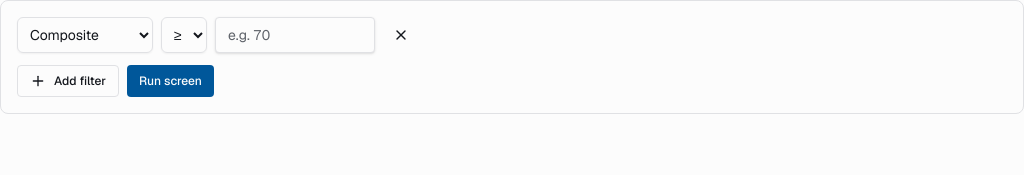
Test: FilterBuilder › adds and removes filter rows
This screenshot has width=1024, height=175.
Click the button "Add filter": [68, 81] box [17,65,119,97]
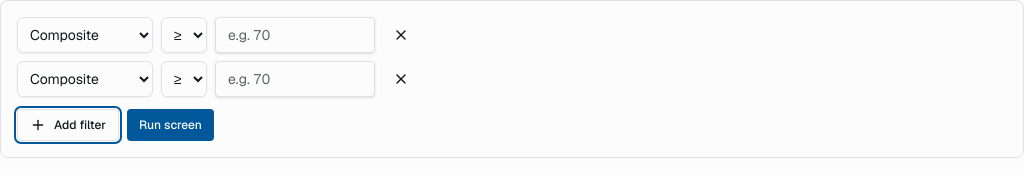
Expected: the number of fields named "Value" is 2, [215,17,375,53]; [215,61,375,97]
Click the 2nd button named "remove filter": [401, 79] box [383,61,419,97]
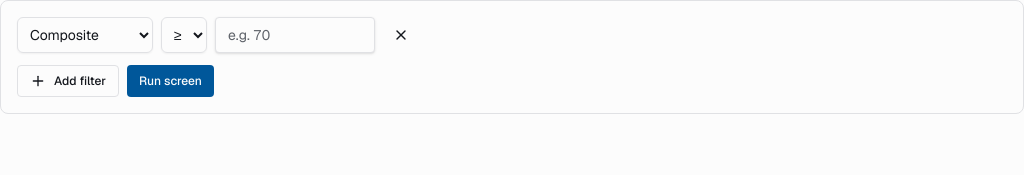
Expected: the number of fields named "Value" is 1, [215,17,375,53]
